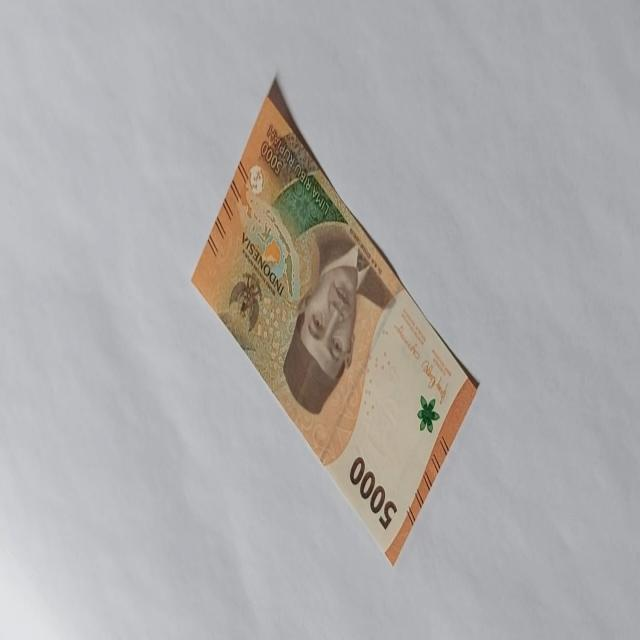lima ribu rupiah: (190, 72, 480, 566), (282, 221, 371, 415)
